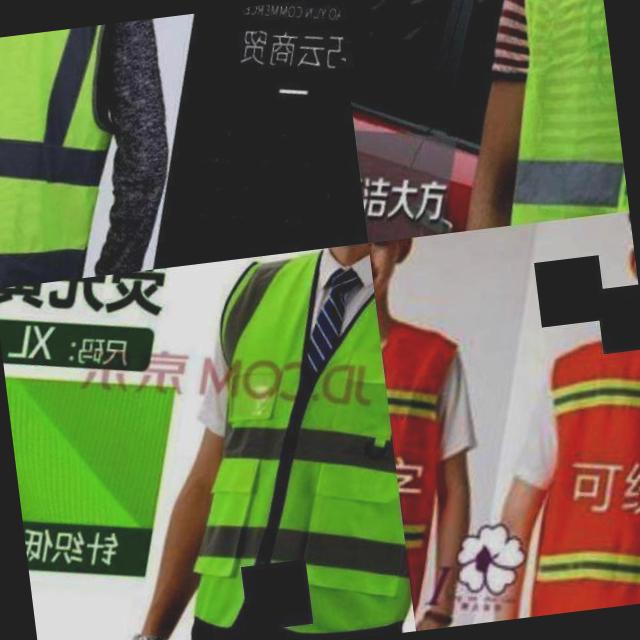vest: (153, 243, 415, 640), (0, 17, 190, 288), (482, 321, 640, 618), (432, 0, 629, 231), (375, 290, 510, 626)
